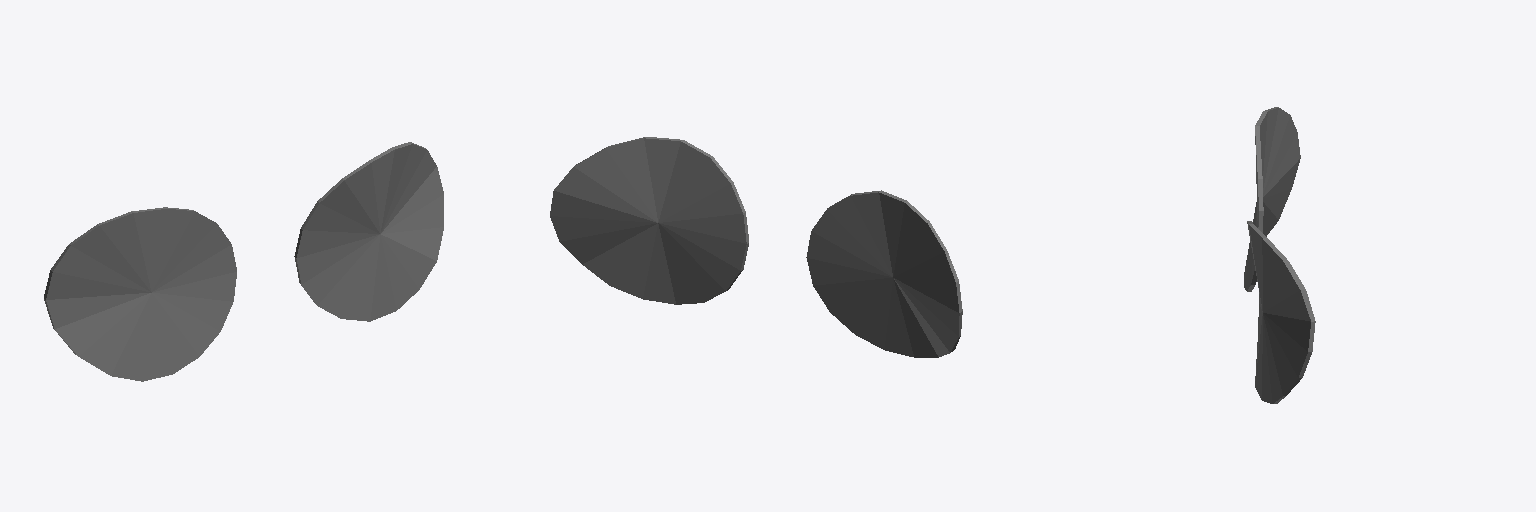
The model's file is Taylor_Morris_Glasses_Lenses.obj.
The picture shows the model from 3 angles: view 1: azimuth 30°, elevation 25°; view 2: azimuth 150°, elevation 25°; view 3: azimuth 270°, elevation 25°; orthographic projection.
Parts seen in each view (by area): view 1: Specs_L_rim2; view 2: Specs_L_rim2; view 3: Specs_L_rim2.
Boxes of the visible parts, x1=… form: Specs_L_rim2: x1=44, y1=142, x2=443, y2=381; Specs_L_rim2: x1=550, y1=137, x2=962, y2=357; Specs_L_rim2: x1=1244, y1=107, x2=1315, y2=403.
Size of the model in its own units: 13.47 by 5.18 by 2.06.